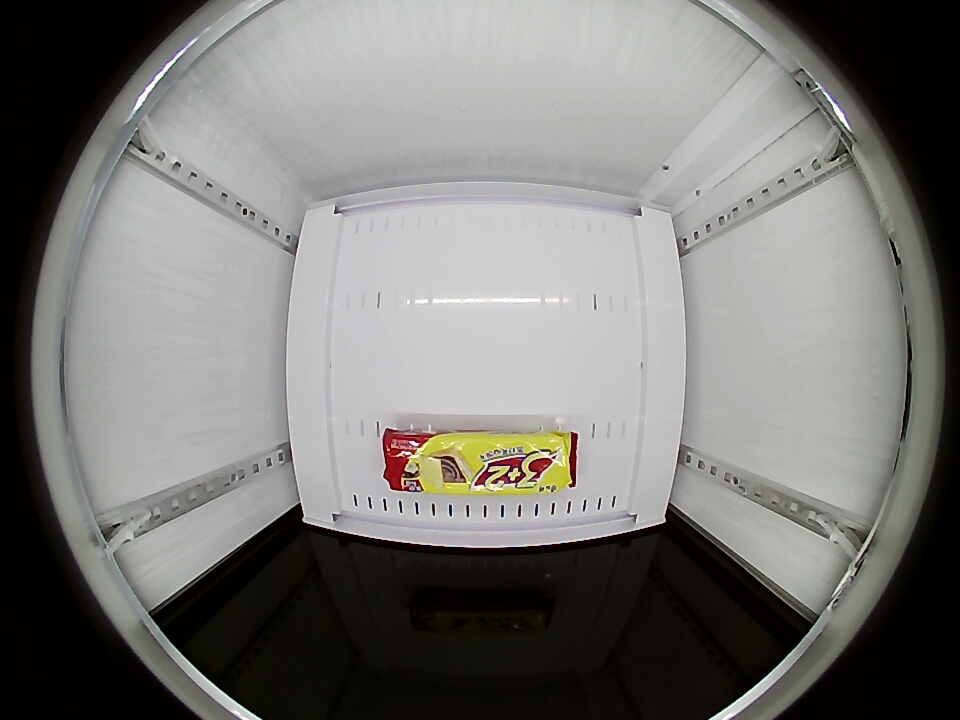3jia2: (385, 431, 578, 496)
